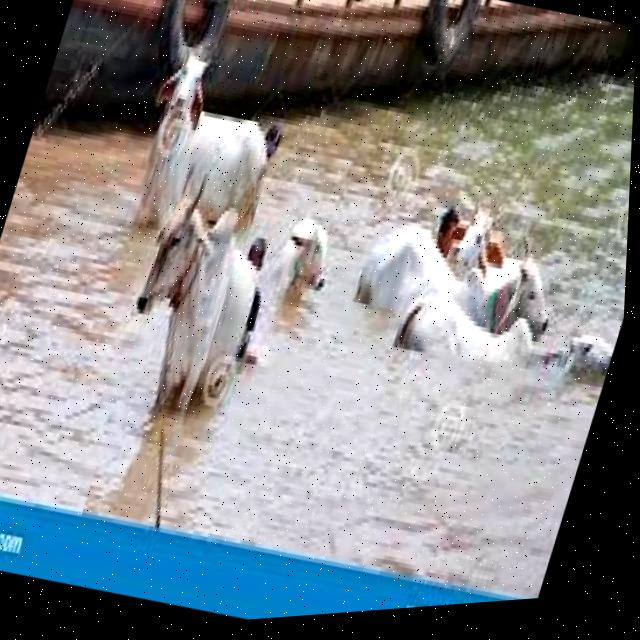cow: (73, 167, 285, 421), (108, 32, 306, 271), (316, 204, 577, 379), (383, 258, 626, 425), (415, 171, 549, 313), (261, 211, 349, 310)
